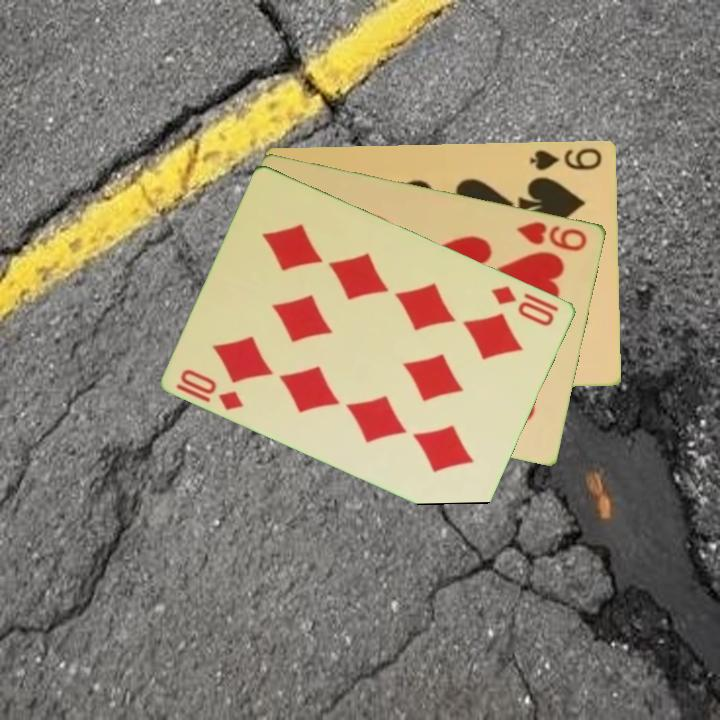10d: (173, 365, 247, 413), (488, 282, 563, 329)
9h: (513, 217, 590, 254)
9s: (526, 144, 605, 173)
